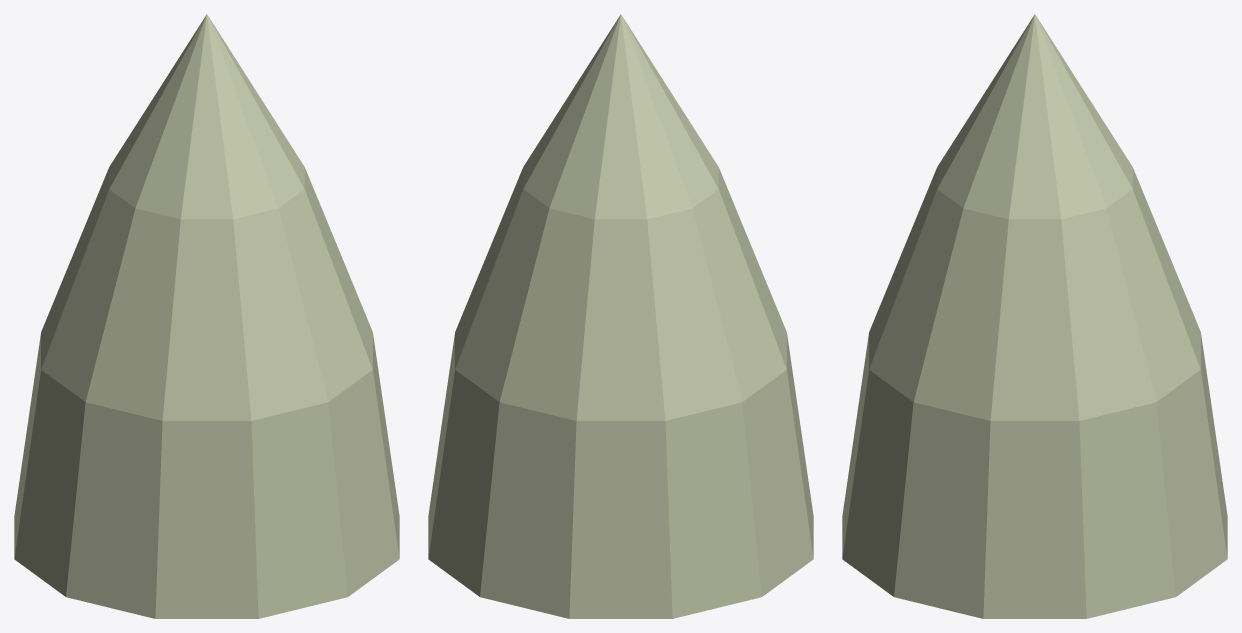
File: rotanev_lv_nose_fuel_tank_s4_1_collider.obj
3 views of the same model, side by side, from view 1: azimuth 30°, elevation 25°; view 2: azimuth 150°, elevation 25°; view 3: azimuth 270°, elevation 25° (orthographic).
Parts seen in each view (by area): view 1: collider; view 2: collider; view 3: collider.
Part boxes in pixels (<box>): collider: <box>14,14,399,618</box>; collider: <box>428,14,813,618</box>; collider: <box>842,14,1227,618</box>.
Size of the model in its own units: 5 by 7.5 by 5.
